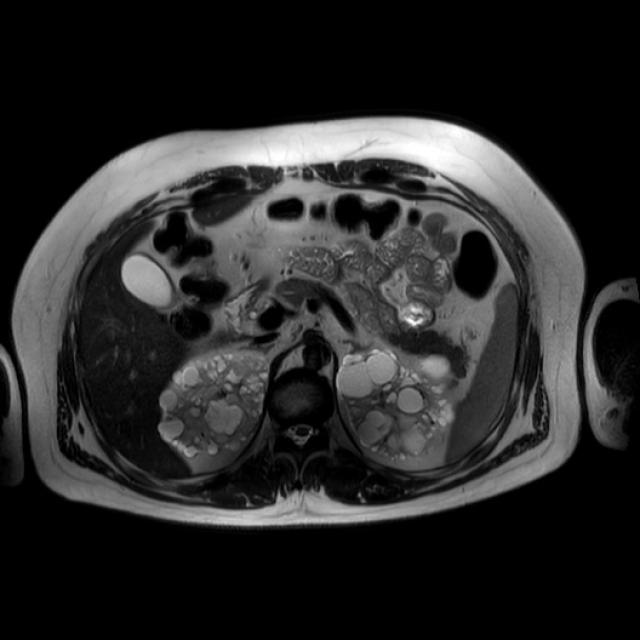sag: (161, 349, 270, 457)
sol: (339, 342, 454, 462)
